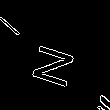N_E: (33, 44, 85, 96)
